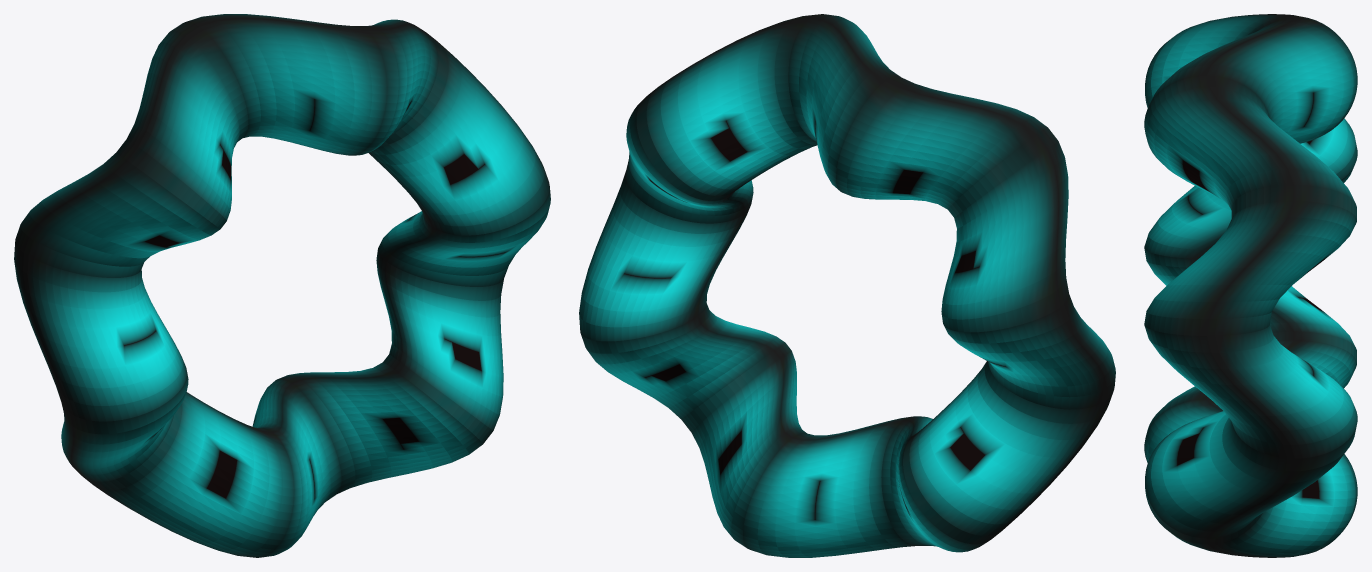
The model's file is step_10.glb.
3 renders of one model, left to right at view 1: azimuth 30°, elevation 25°; view 2: azimuth 150°, elevation 25°; view 3: azimuth 270°, elevation 25°, orthographic. The views are drawn at different scales.
Parts seen in each view (by area): view 1: world; view 2: world; view 3: world.
Boxes of the visible parts, x1,y1,x2,y2 form: world: [14, 14, 550, 557]; world: [579, 14, 1115, 557]; world: [1144, 14, 1357, 557].
Bounding box in the file's own units: 26 × 26 × 10.19.
